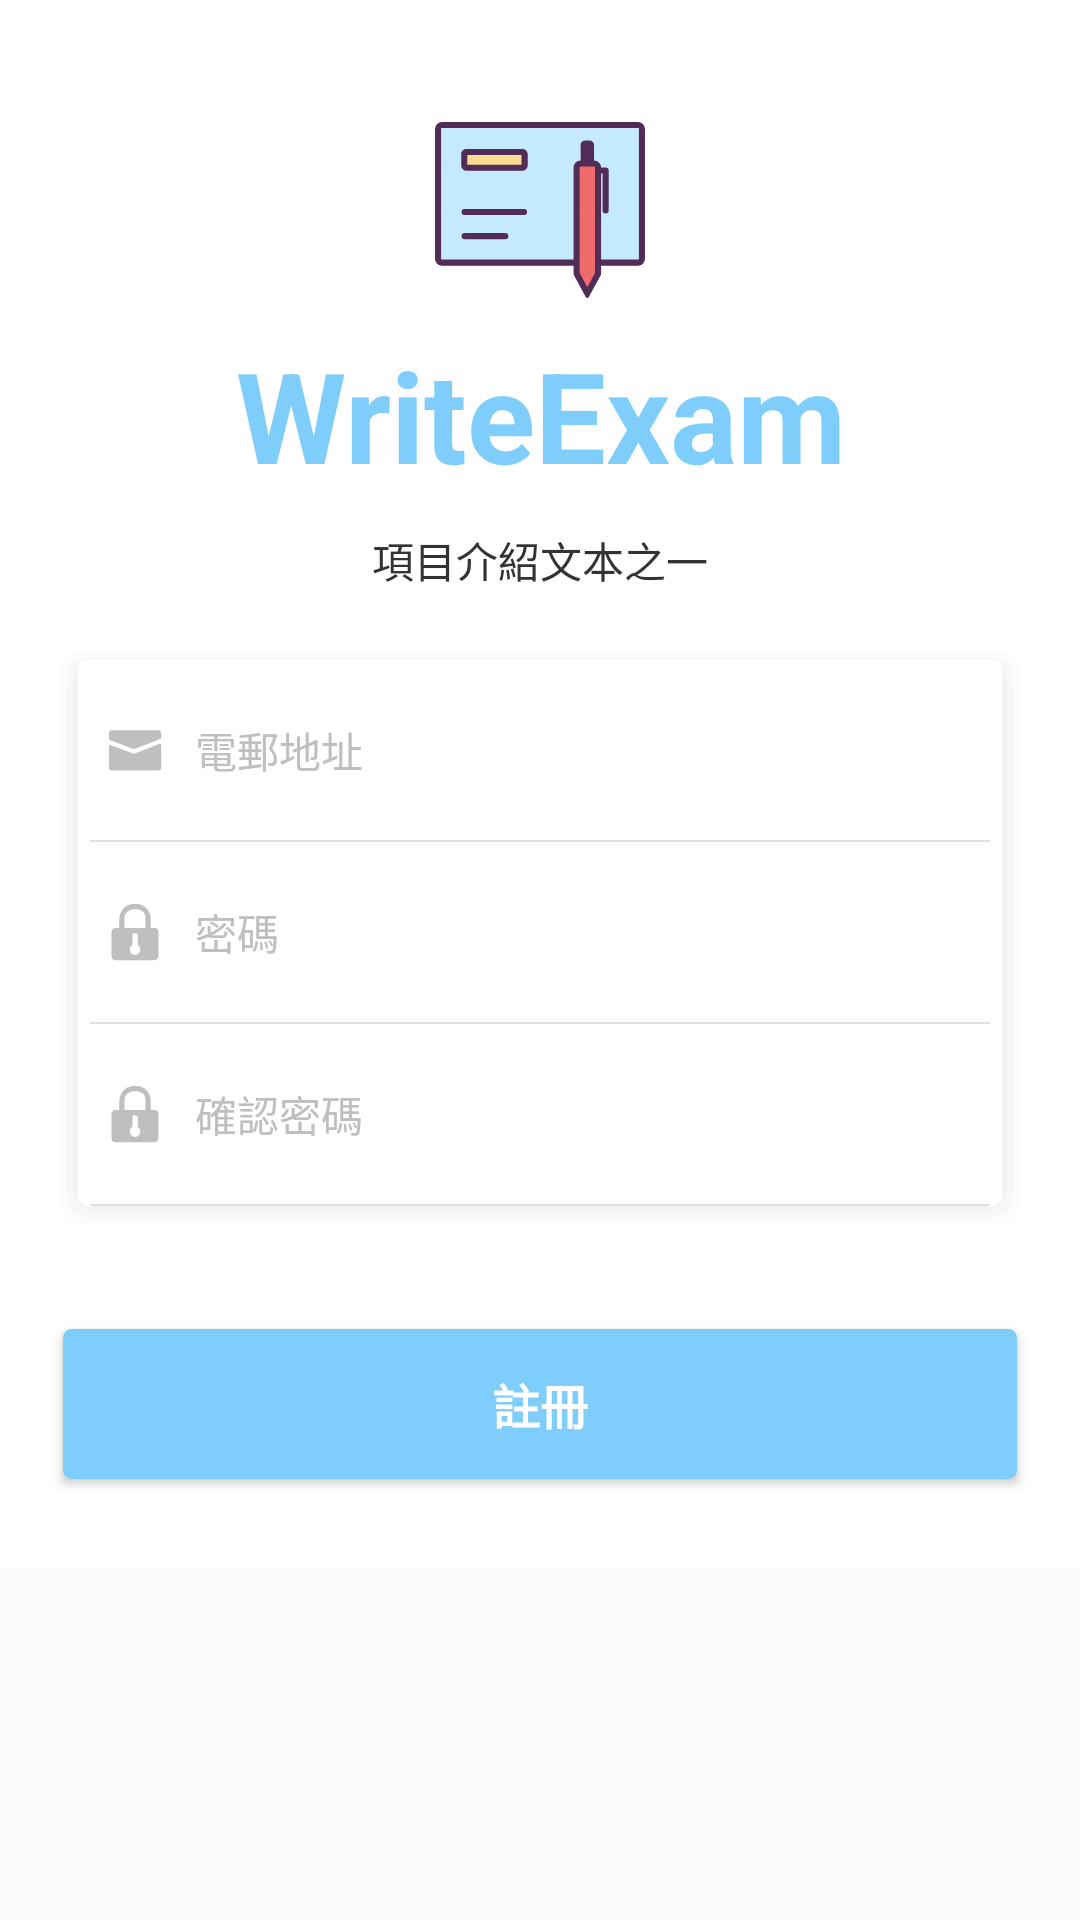

Screen size 1080*1920. Icon name, then its box in pixels as (x1, y1, x2, y2):
email bfgray: (109, 730, 161, 771)
password bfgray: (111, 904, 159, 960), (111, 1086, 159, 1142)
